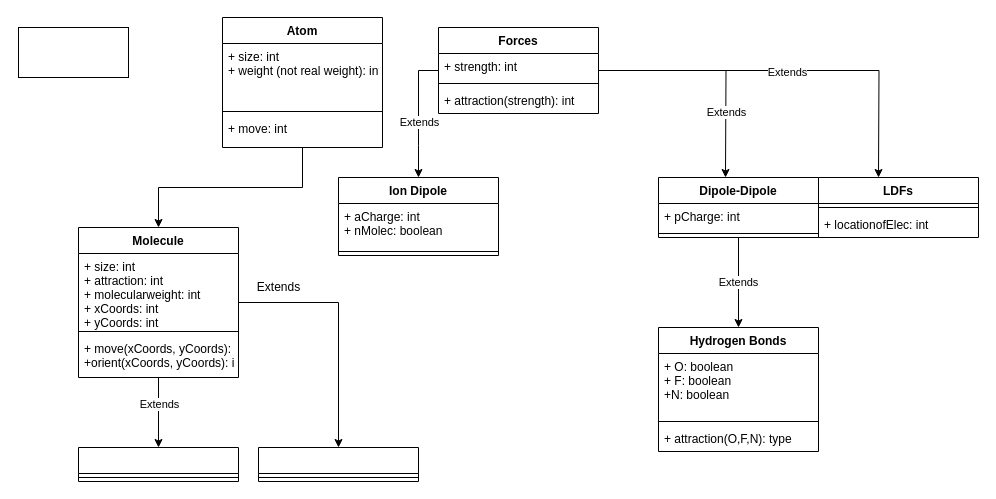
This 996x499 diagram has some shape labels left out. The shapes that lost their labels are listed below. From the top down, each one's centre as x and y in pixels, then its label:
At [73,52]: "Intermolecular forces".
At [158,464]: "Molecule 2".
At [338,464]: "Molecule 1".
